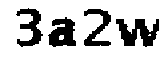2: (80, 4, 113, 51)
3: (15, 5, 45, 48)
a: (48, 15, 80, 50)
w: (113, 12, 160, 51)
